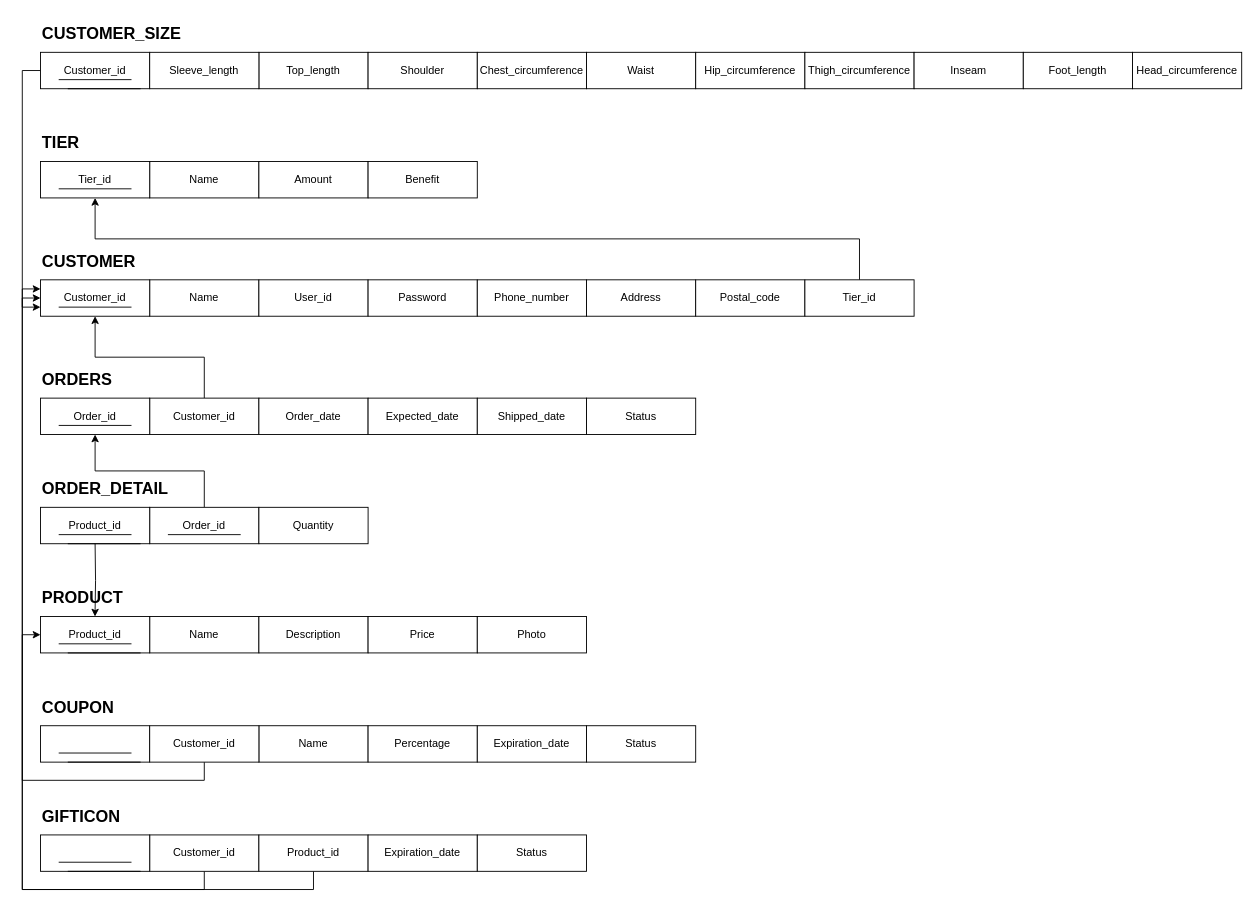
Some shapes in this 1258 by 913 pixel diagram are drawn without their labels. Here are the shapes that lost their labels. From the top down, the box of each, then its label:
(40, 725, 150, 762): Coupon_id
(40, 834, 150, 871): Gifticon_id
